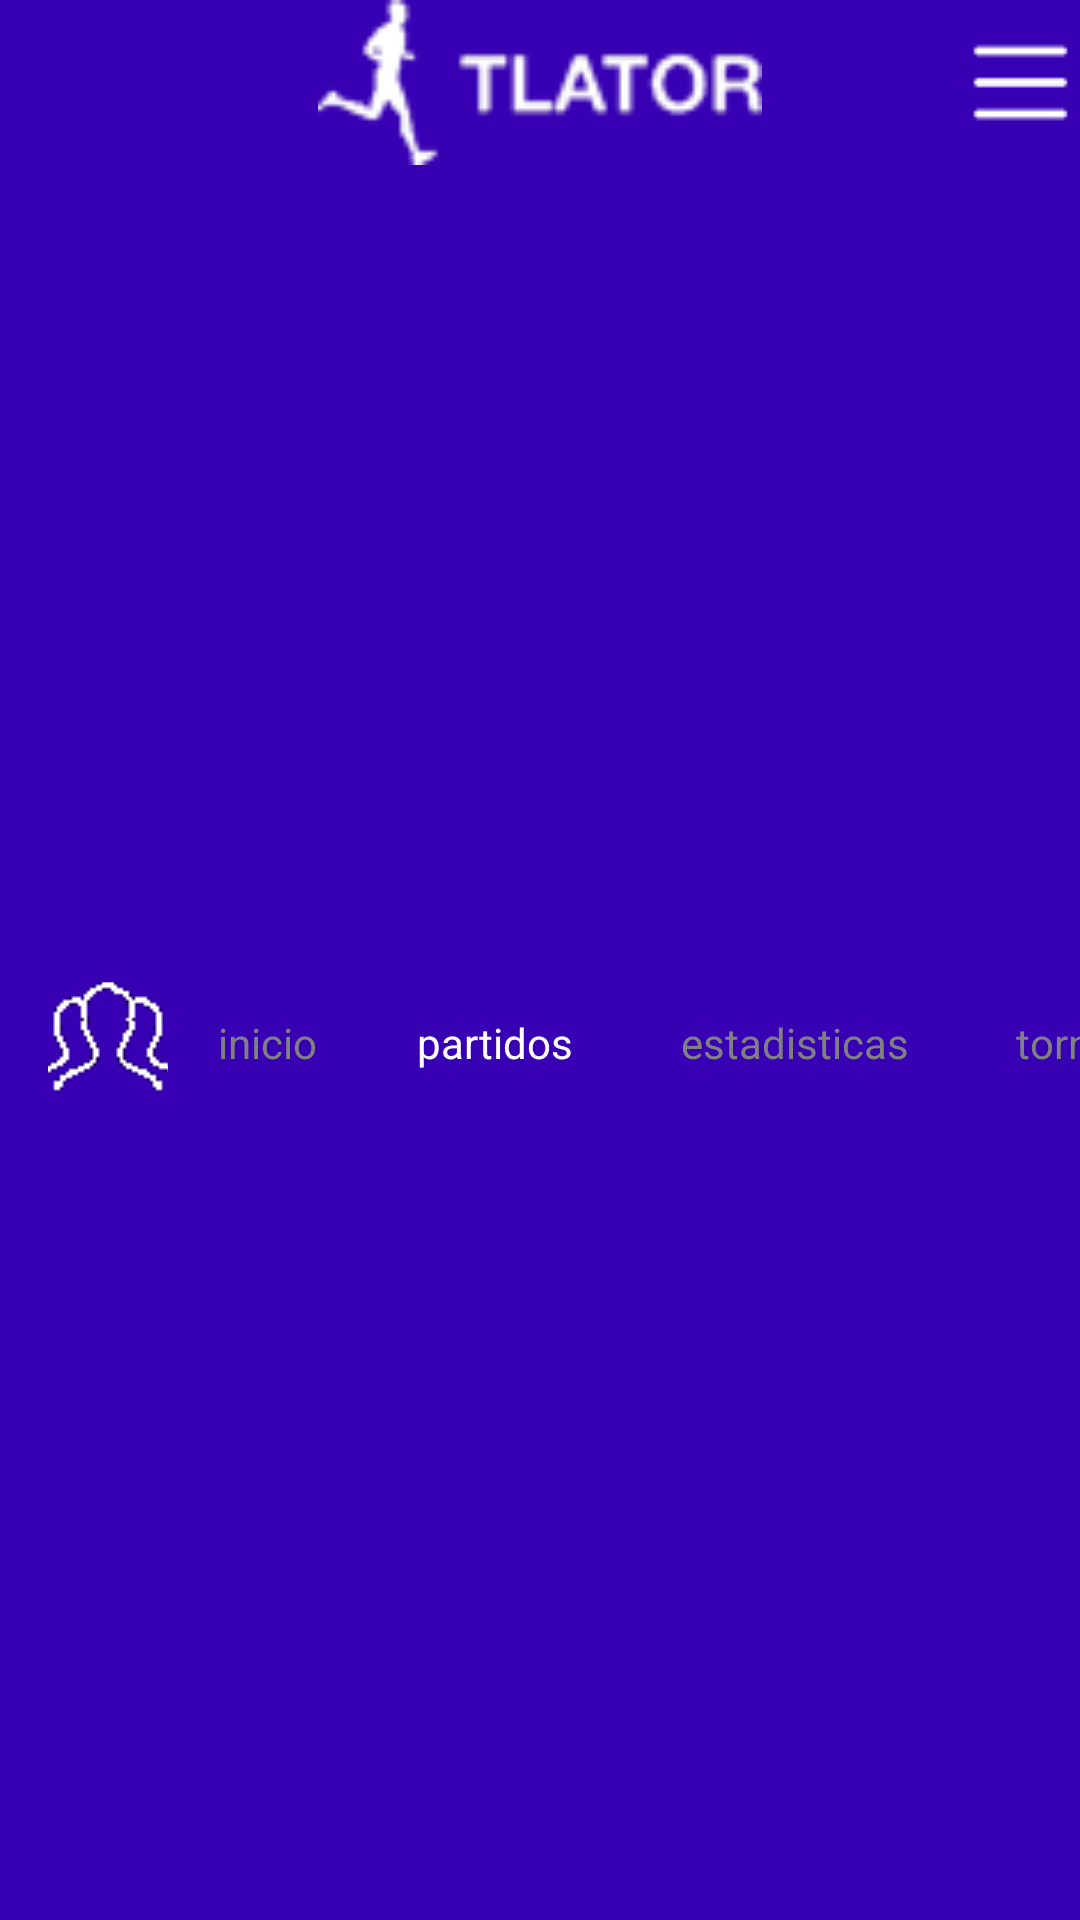

Locate icon controls on the screen. Image size 1080w x 1920h, boxes as box(x1, y1, x2, y2).
menu: box(973, 44, 1068, 121)
users: box(48, 982, 168, 1091)
